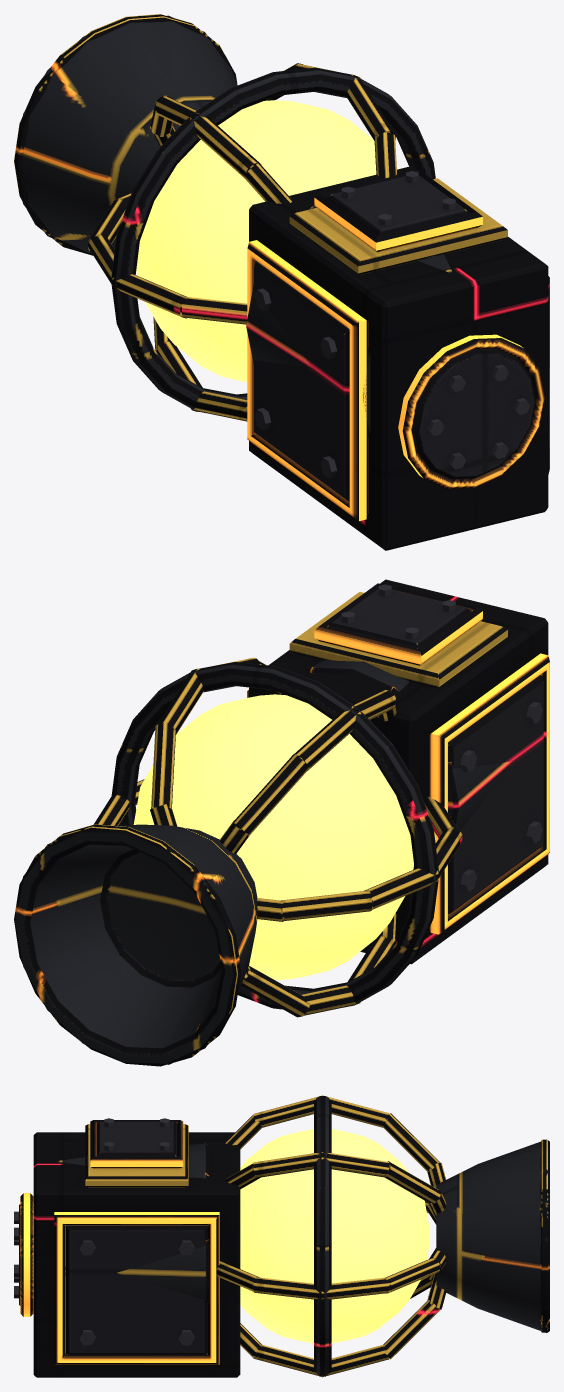
File: canon_plasma_t4.fbx
3 renders of one model, top to bottom at view 1: azimuth 30°, elevation 25°; view 2: azimuth 150°, elevation 25°; view 3: azimuth 270°, elevation 25°, orthographic. The views are drawn at different scales.
Parts seen in each view (by area): view 1: canon_plasma_t4, canon_plasma_t4_neon; view 2: canon_plasma_t4, canon_plasma_t4_neon; view 3: canon_plasma_t4, canon_plasma_t4_neon.
Part boxes in pixels (<box>): canon_plasma_t4: <box>14,14,549,550</box>; canon_plasma_t4_neon: <box>136,100,376,382</box>; canon_plasma_t4: <box>14,579,549,1066</box>; canon_plasma_t4_neon: <box>133,694,413,980</box>; canon_plasma_t4: <box>14,1095,549,1377</box>; canon_plasma_t4_neon: <box>240,1129,429,1343</box>.
Size of the model in its own units: 2.74 by 2.73 by 5.19.
